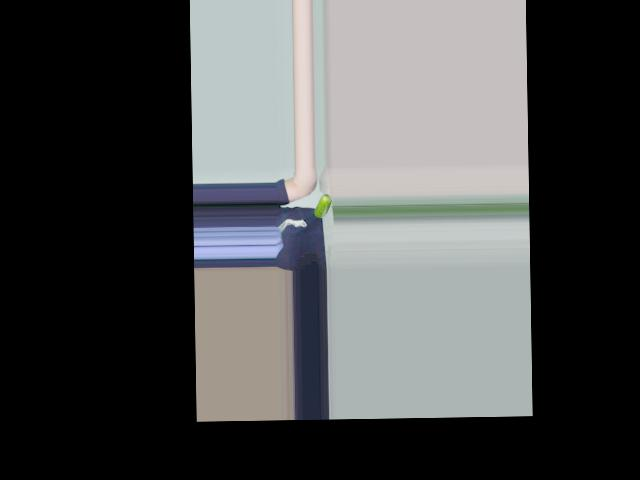cucumber: (314, 193, 332, 217)
